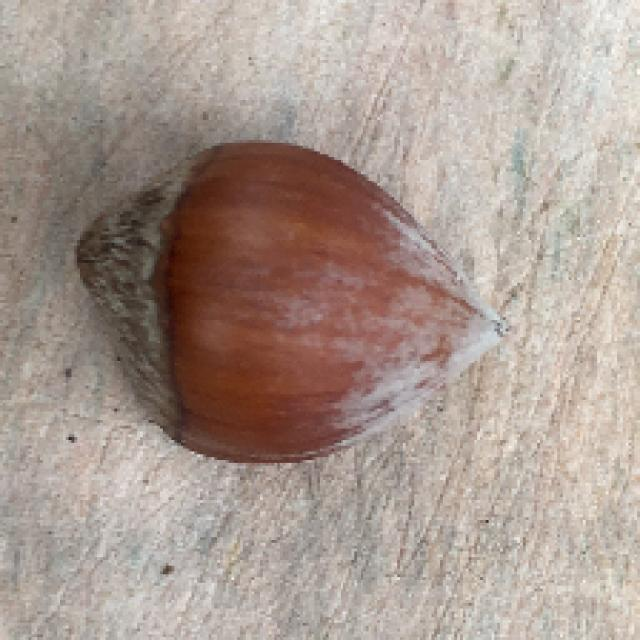QualityHazelnut: (77, 139, 520, 470)
